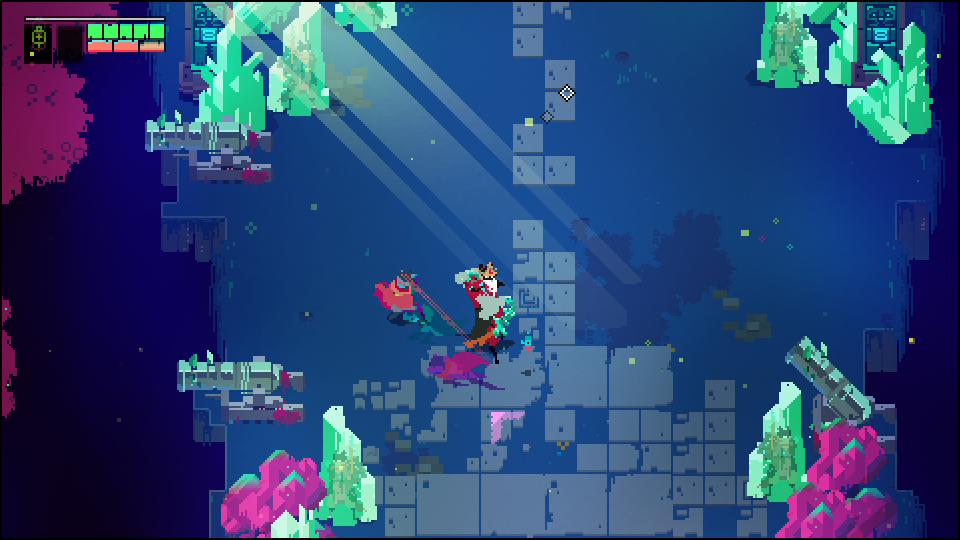hanged_man: (448, 261, 517, 355)
player: (379, 267, 425, 322)
